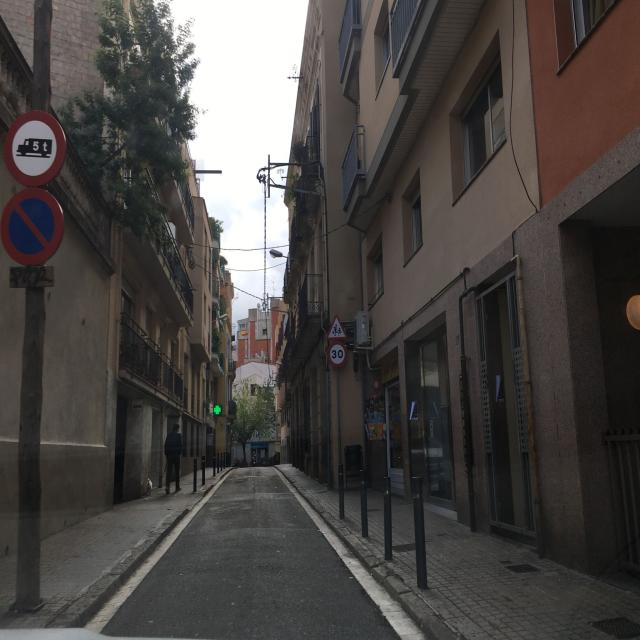forb_stopping: (0, 185, 64, 266)
